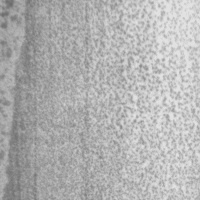pitted_surface: (0, 1, 165, 200)
